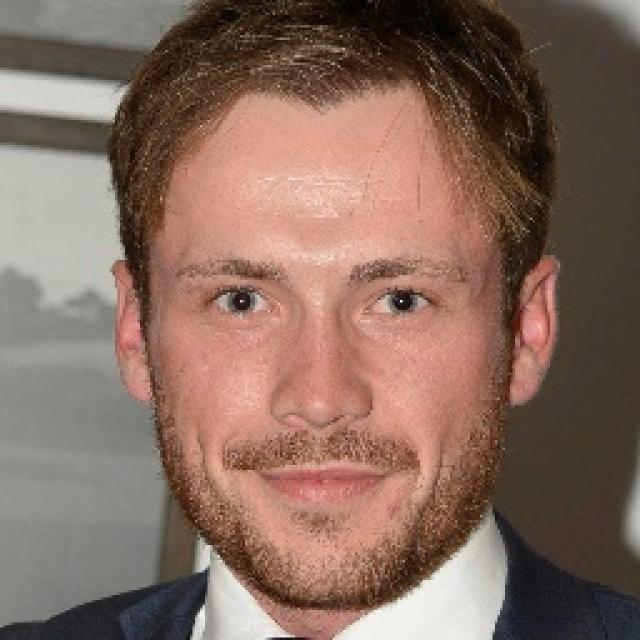earlobe: (508, 252, 559, 404), (111, 258, 158, 404)
